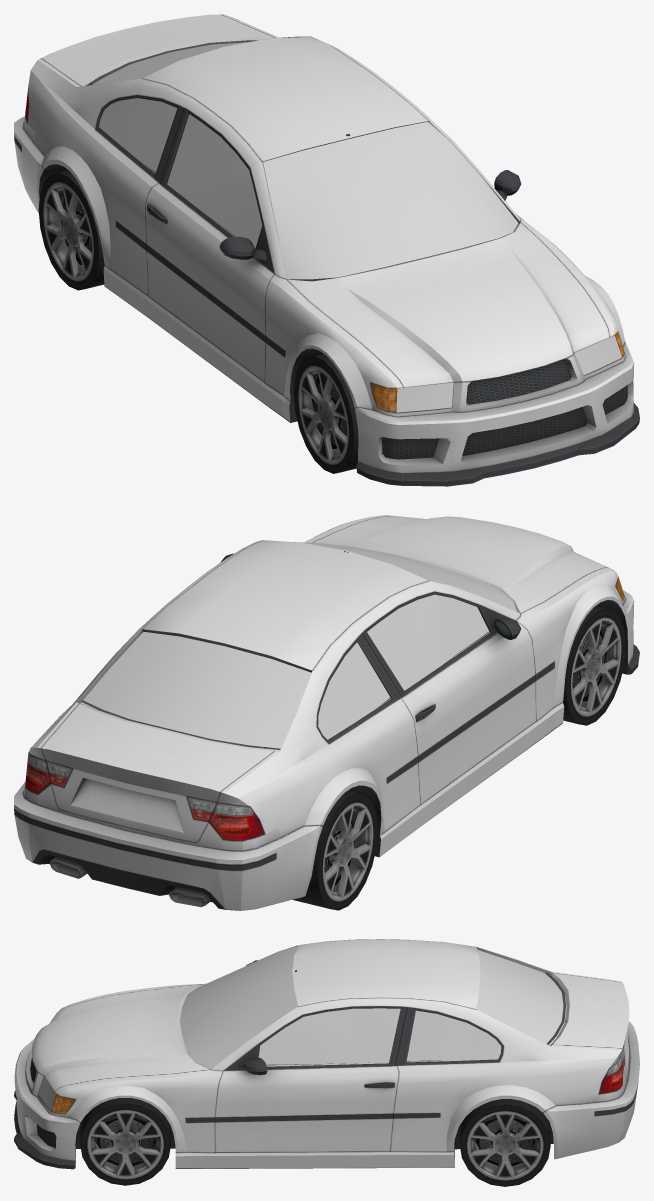
File: BMW E36.fbx
3 renders of one model, top to bottom at view 1: azimuth 30°, elevation 25°; view 2: azimuth 150°, elevation 25°; view 3: azimuth 270°, elevation 25°, orthographic. The views are drawn at different scales.
Visible parts, largest first — view 1: Body_32, Glass_32, Matte_32, Wheel_R, Wheel_Back_R, Glass_light; view 2: Body_32, Glass_32, Matte_32, Wheel_Back_R, Wheel_R, Taillights_32, Car_32_Interior_E; view 3: Body_32, Glass_32, Matte_32, Wheel_L, Wheel_Back_L, Taillights_32, Car_32_Interior_E.
Part boxes in pixels (left/top/right/bottom): Body_32: left=14, top=14, right=634, bottom=473; Glass_32: left=92, top=42, right=518, bottom=279; Matte_32: left=14, top=95, right=639, bottom=486; Wheel_R: left=293, top=354, right=358, bottom=473; Wheel_Back_R: left=38, top=170, right=104, bottom=290; Glass_light: left=396, top=335, right=621, bottom=412; Body_32: left=14, top=515, right=634, bottom=910; Glass_32: left=80, top=542, right=516, bottom=751; Matte_32: left=14, top=553, right=639, bottom=909; Wheel_Back_R: left=292, top=790, right=377, bottom=910; Wheel_R: left=563, top=605, right=625, bottom=725; Taillights_32: left=25, top=752, right=264, bottom=840; Car_32_Interior_E: left=81, top=551, right=489, bottom=749; Body_32: left=14, top=939, right=639, bottom=1168; Glass_32: left=180, top=946, right=566, bottom=1069; Matte_32: left=14, top=960, right=637, bottom=1169; Wheel_L: left=80, top=1098, right=170, bottom=1185; Wheel_Back_L: left=459, top=1099, right=550, bottom=1186; Taillights_32: left=599, top=1046, right=624, bottom=1094; Car_32_Interior_E: left=266, top=970, right=565, bottom=1065.
Bounding box in the file's own units: 189 × 139 × 460.
